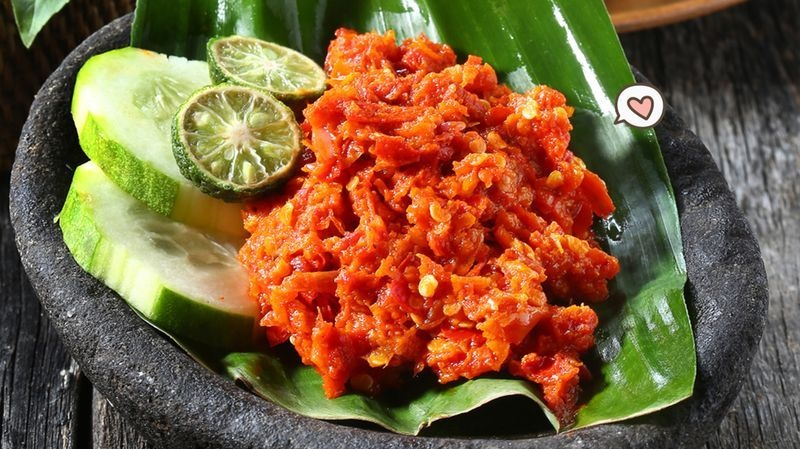sambal: (243, 23, 616, 418)
